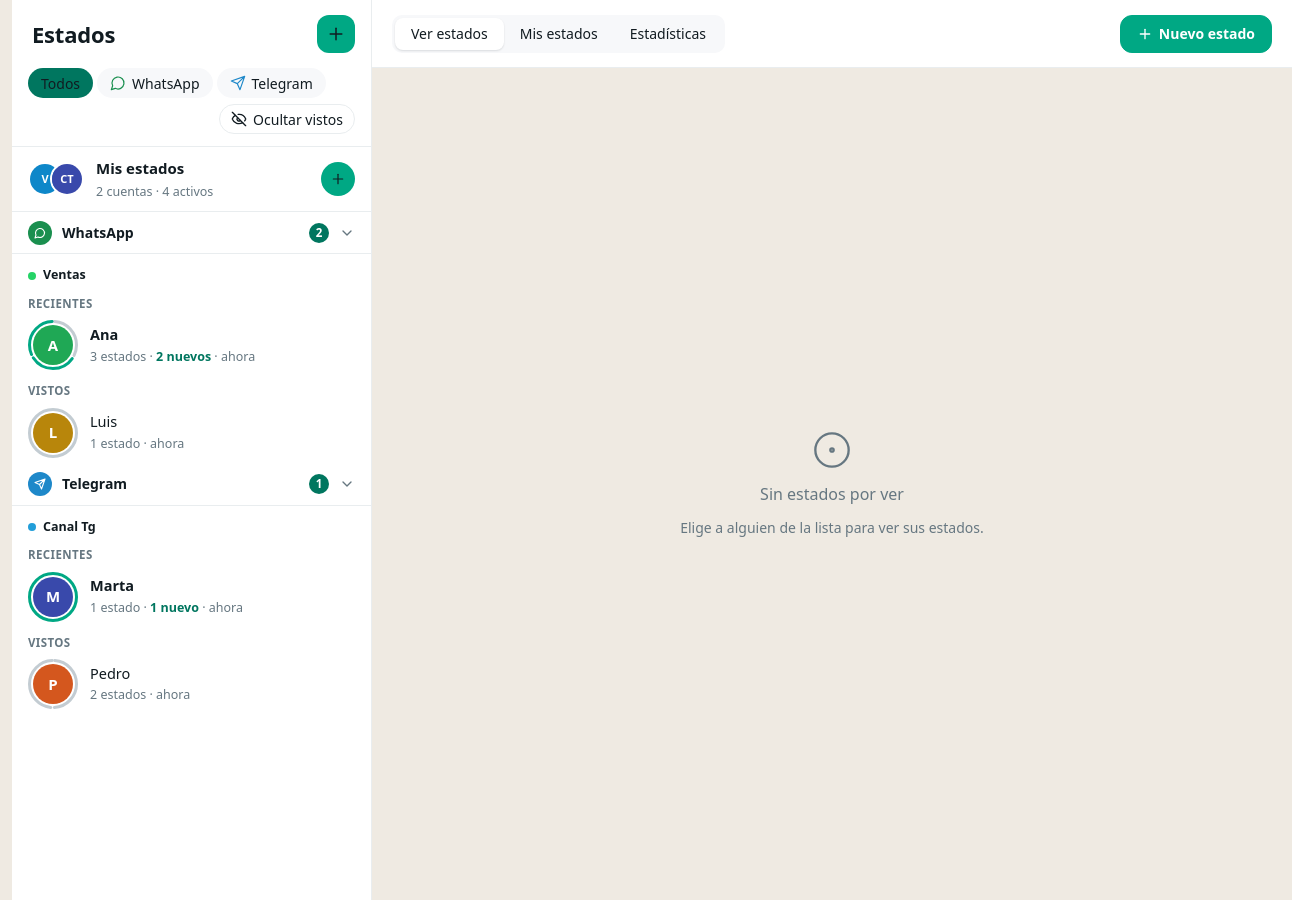
Scenario: StatusesPage · visor en línea › tras ver un estado la lista se recarga y la selección se conserva
The width and height of the screenshot is (1292, 900).
Click the text "Marta". click: (112, 585)
box: [90,575,134,595]
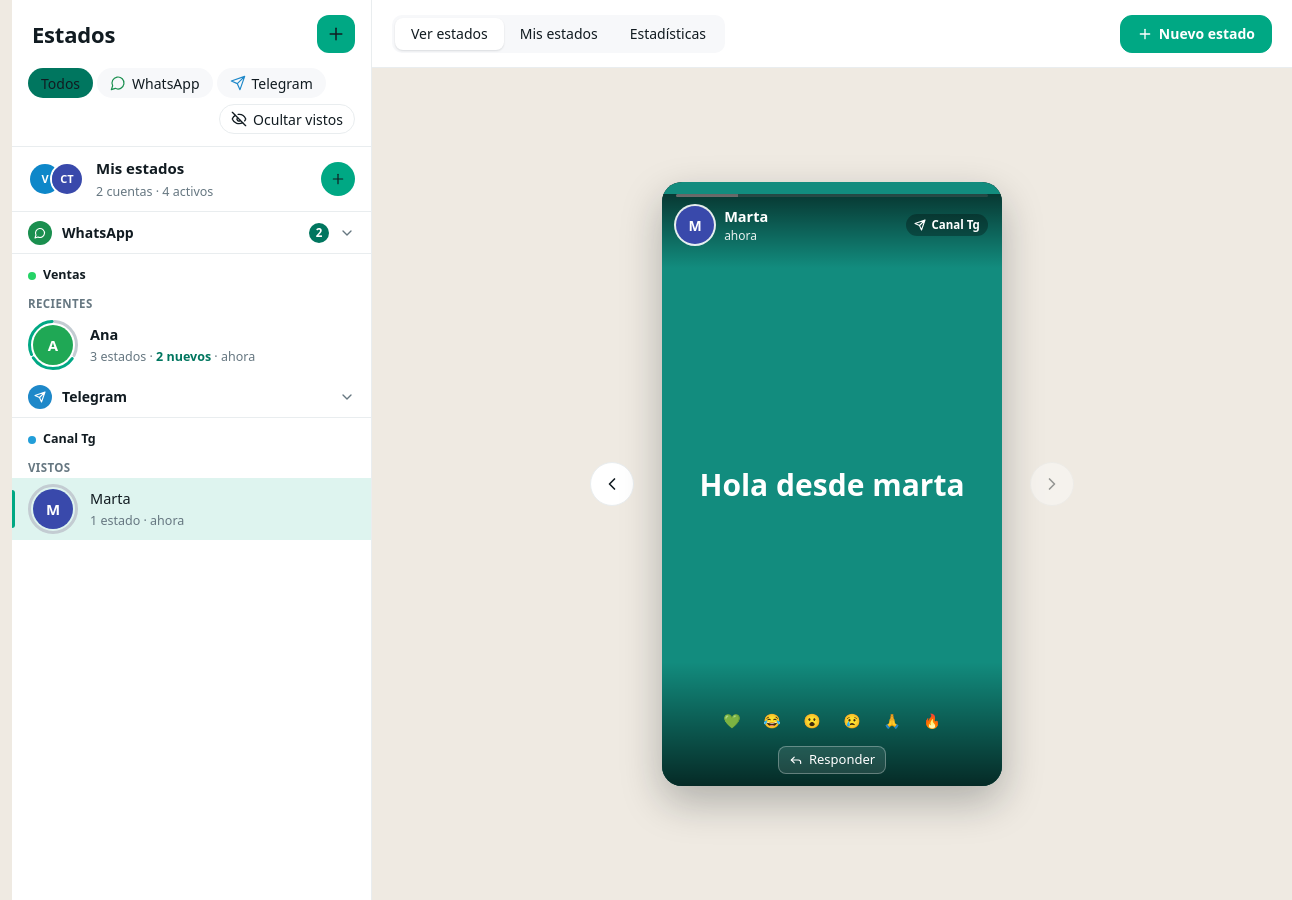
expect the text "Hola desde marta" is shown: met, box [700,464,965,504]
